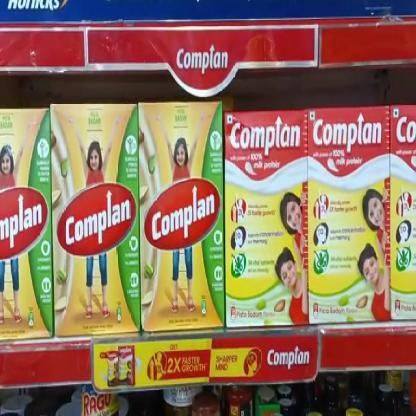Complan Pista Badam: (50, 105, 140, 339), (138, 105, 222, 337), (224, 108, 308, 328), (307, 108, 390, 328), (0, 114, 53, 334)
